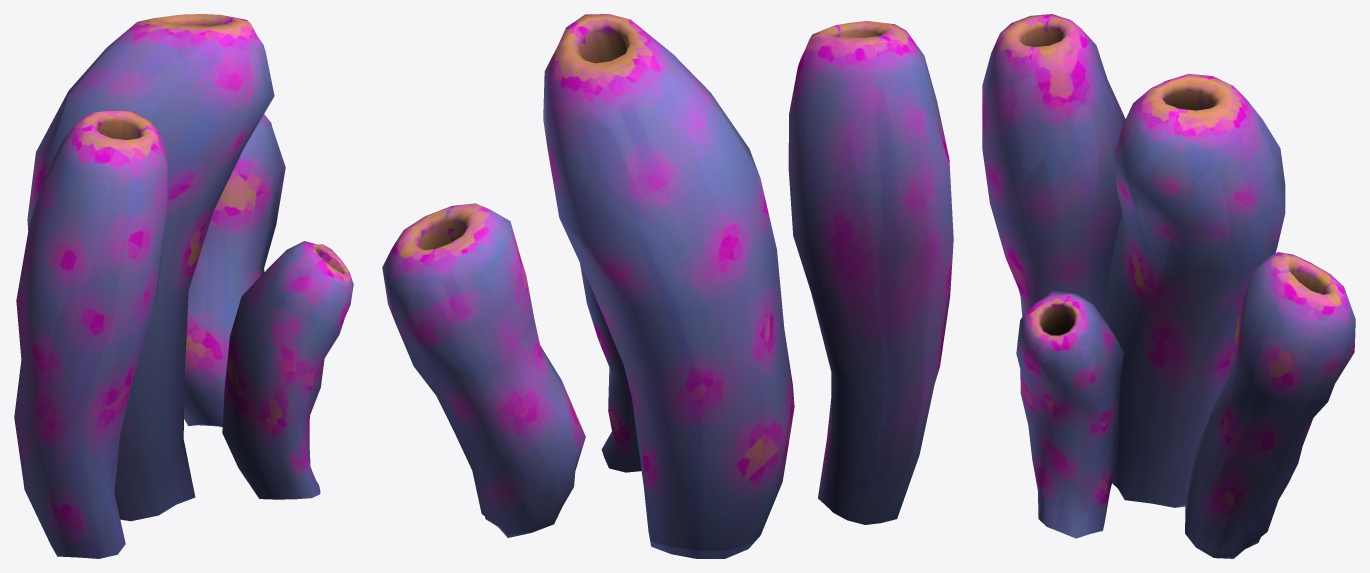
The model's file is 02-BVThick.fbx.
3 renders of one model, left to right at view 1: azimuth 30°, elevation 25°; view 2: azimuth 150°, elevation 25°; view 3: azimuth 270°, elevation 25°, orthographic. The views are drawn at different scales.
Visible parts, largest first — view 1: 02-BVThick_LOD00; view 2: 02-BVThick_LOD00; view 3: 02-BVThick_LOD00.
Part boxes in pixels (box(x1,y1,x2,y2)): 02-BVThick_LOD00: box(14, 14, 353, 558); 02-BVThick_LOD00: box(382, 14, 953, 558); 02-BVThick_LOD00: box(982, 14, 1355, 558).
Size of what is drawn, in the model's own units: 68.01 by 78.17 by 60.39.
